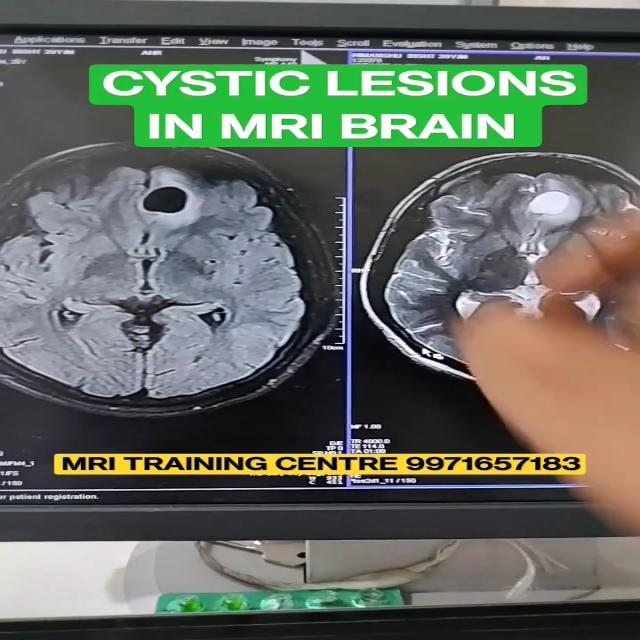tumor: (496, 179, 601, 244), (137, 179, 225, 221)
